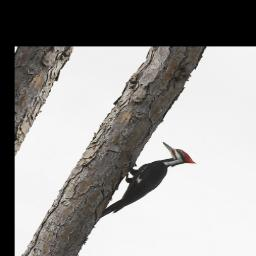Woodpecker: (99, 135, 201, 241)
